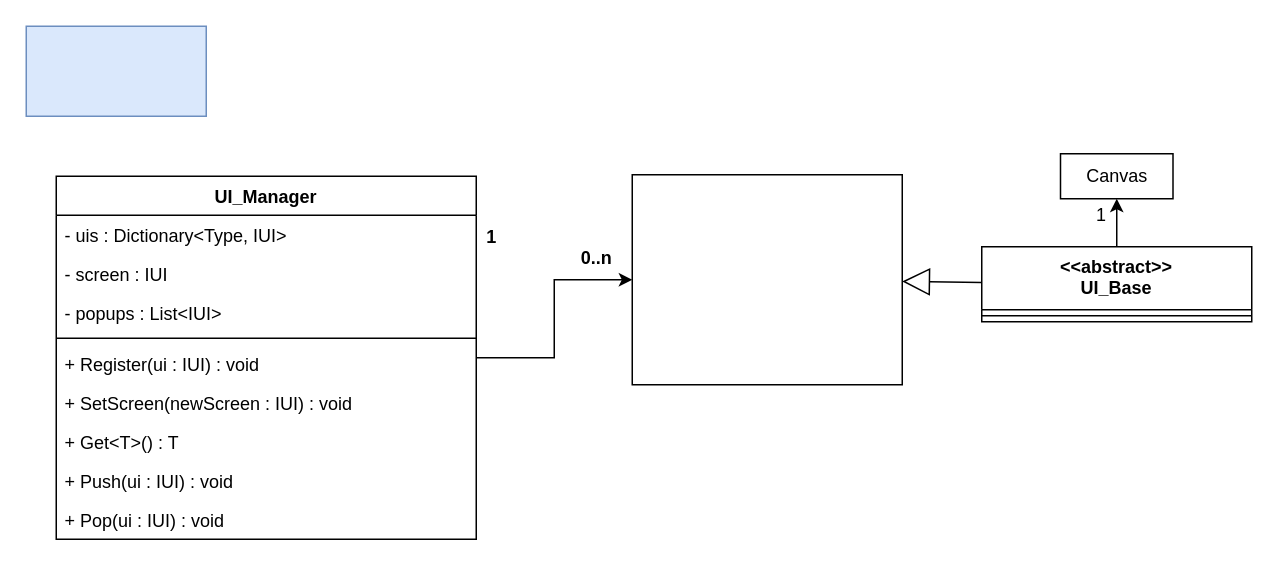
This 1278x570 diagram has some shape labels left out. Here are the shapes that lost their labels. From the top down, the centre of each, then its label:
the point at 115,70: UI Management
the point at 766,279: «interface» IUI {get, set} sortingOrder : int Show() : void Hide() : void
